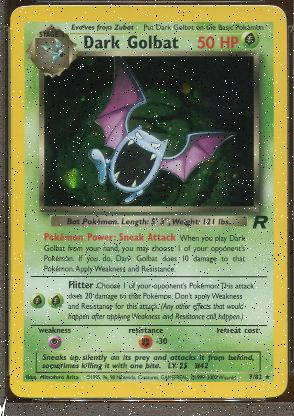Card: (6, 1, 290, 402)
